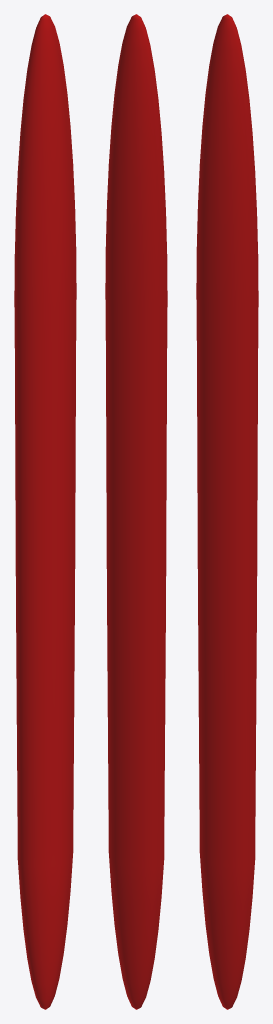
File: Raio Huetizador.dae
The picture shows the model from 3 angles, left to right: view 1: azimuth 30°, elevation 25°; view 2: azimuth 150°, elevation 25°; view 3: azimuth 330°, elevation 25°; orthographic projection.
Visible parts, largest first — view 1: pSphere1; view 2: pSphere1; view 3: pSphere1.
Part boxes in pixels (x1,y1,x2,y2): pSphere1: (14,14,76,1009); pSphere1: (105,14,167,1009); pSphere1: (196,14,258,1009).
Size of the model in its own units: 1.8 by 29.97 by 1.35.
